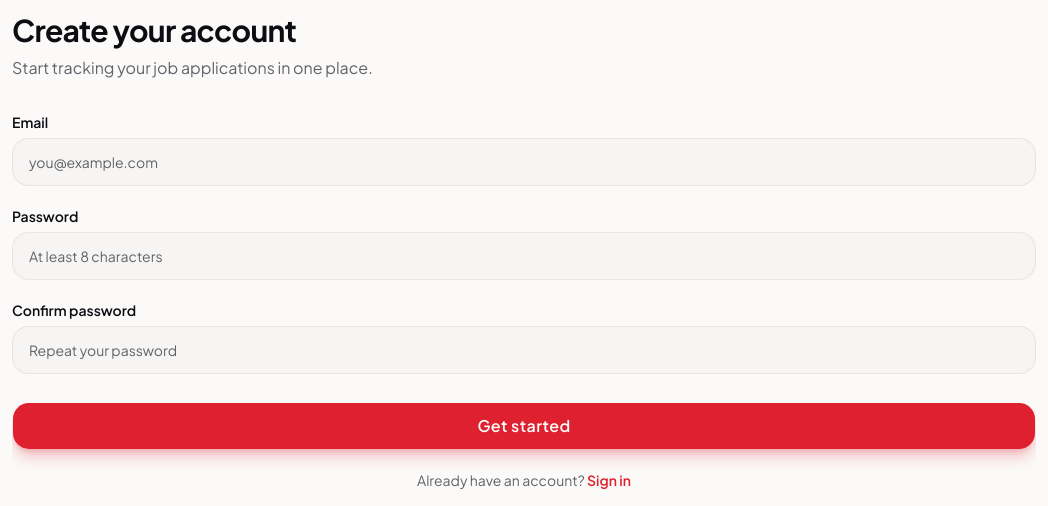
Test case: SignupForm › disables button while loading
The width and height of the screenshot is (1048, 506).
Type "user@example.com" into the field labelled "Email" at (524, 162), box [12, 138, 1036, 186]
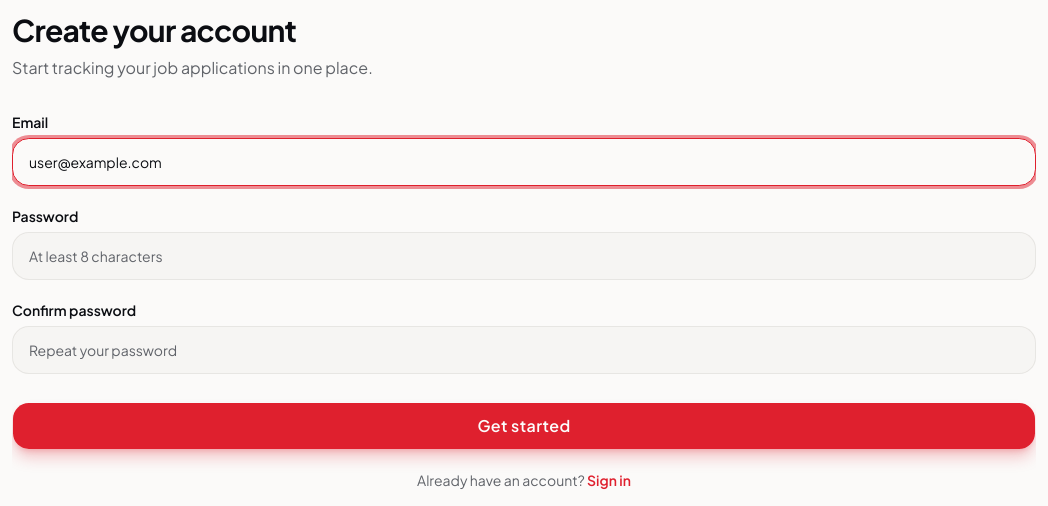
Type "password123" into the password field labelled "Password" at (524, 256), box [12, 232, 1036, 280]
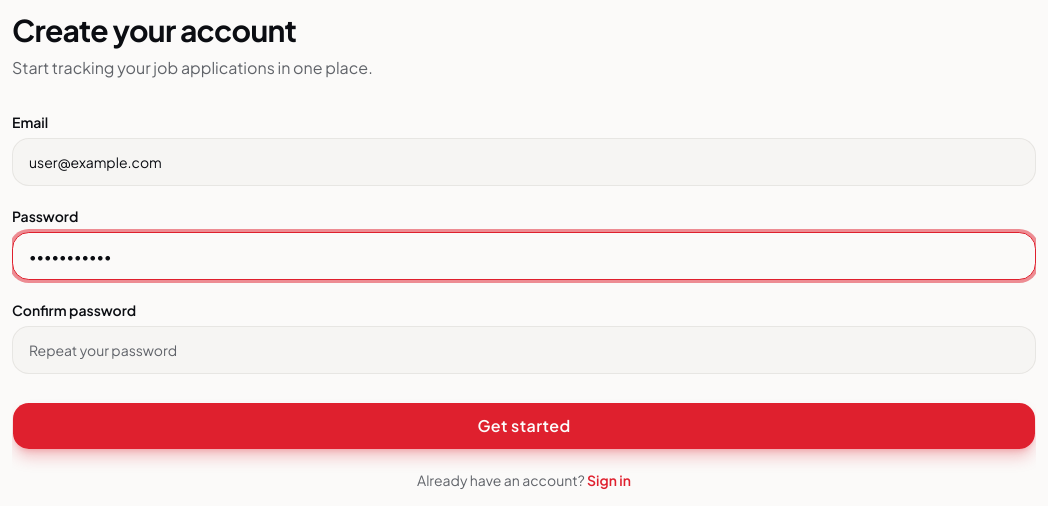
Type "password123" into the password field labelled "Confirm password" at (524, 350), box [12, 326, 1036, 374]
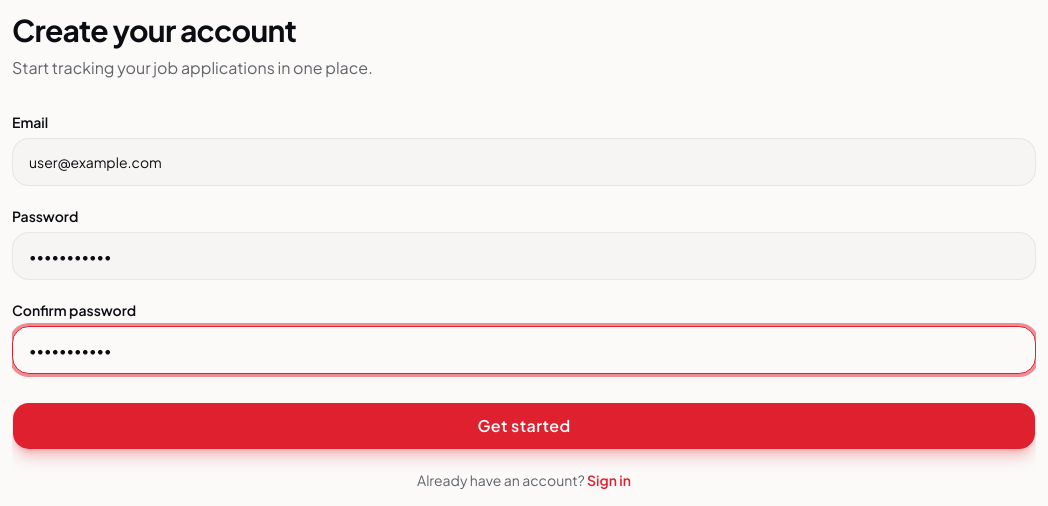
Click the button "Get started" at (524, 426), box [12, 402, 1036, 450]
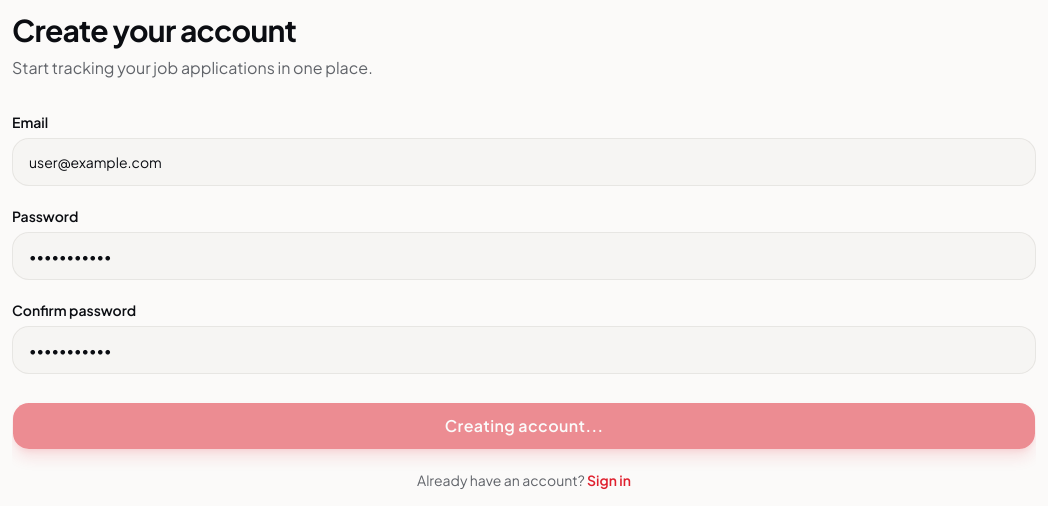
Result: the button "Creating account..." is disabled at [12, 402, 1036, 450]
